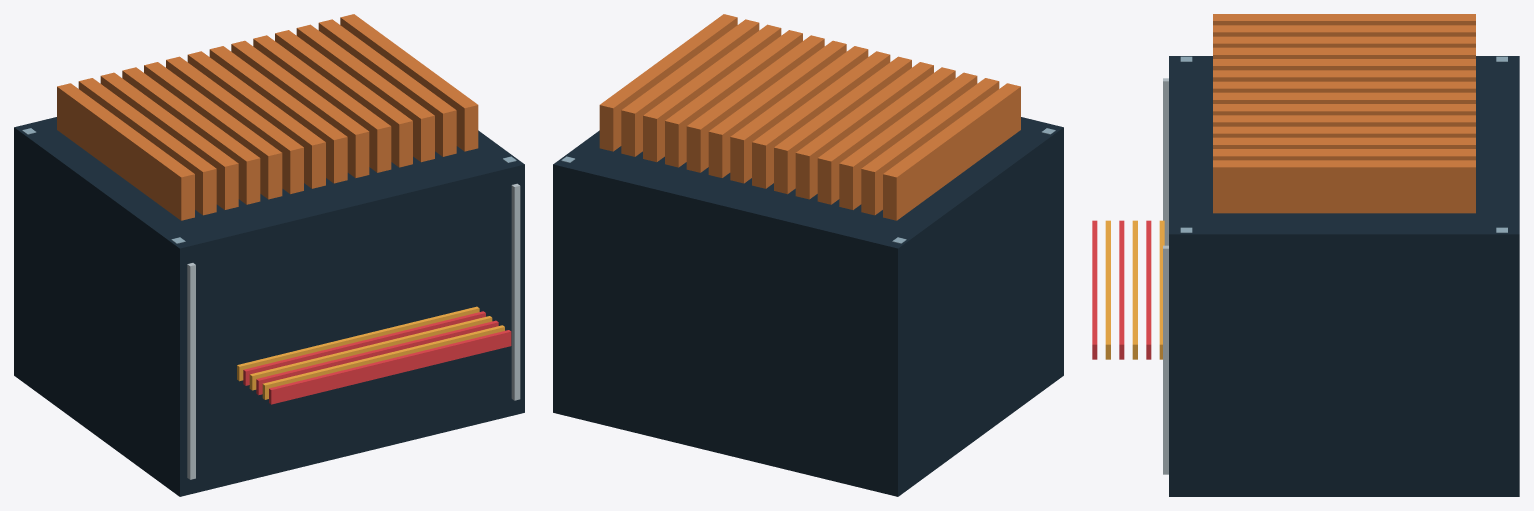
File: 39_L75_ProtectedBeamDumpCollector.fbx
3 renders of one model, left to right at view 1: azimuth 30°, elevation 25°; view 2: azimuth 150°, elevation 25°; view 3: azimuth 270°, elevation 25°, orthographic. The views are drawn at different scales.
Parts seen in each view (by area): view 1: ProtectedBeamDumpCollector; view 2: ProtectedBeamDumpCollector; view 3: ProtectedBeamDumpCollector.
Boxes of the visible parts, x1,y1,x2,y2 form: ProtectedBeamDumpCollector: (14, 14, 524, 496); ProtectedBeamDumpCollector: (553, 14, 1063, 496); ProtectedBeamDumpCollector: (1092, 14, 1519, 496).
Bounding box in the file's own units: 125 × 104 × 127.
